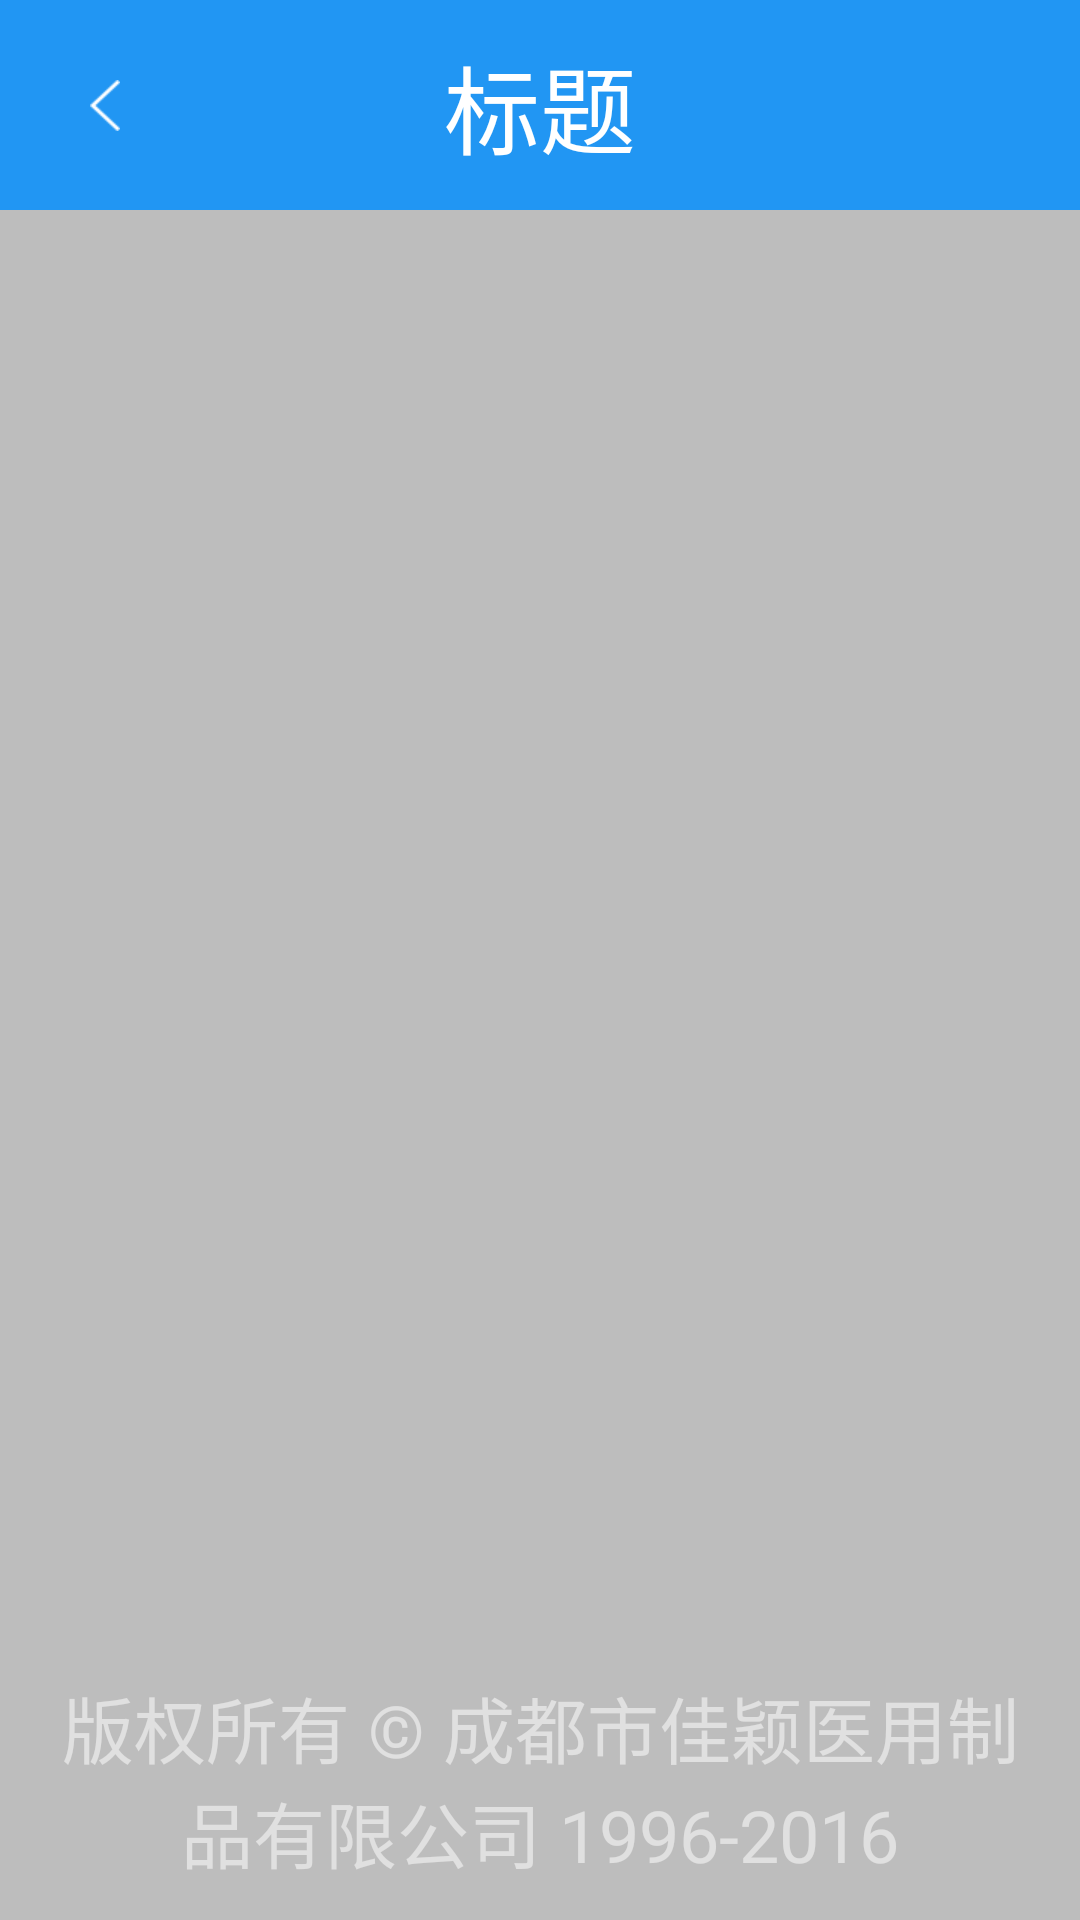

Locate icon controls on the screen. Image size 1080×1920, boxes as (x1, y1, x2, y2).
jiantou press: (90, 80, 120, 131)
